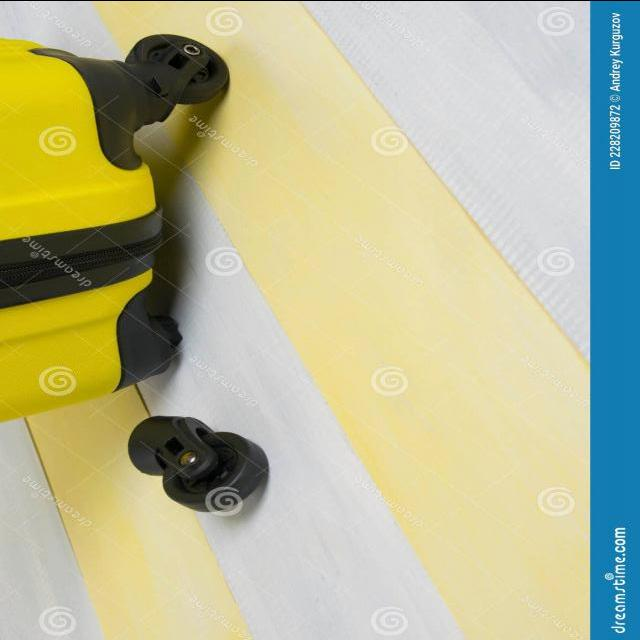Damage-bag: (129, 416, 267, 515), (116, 289, 181, 388)
